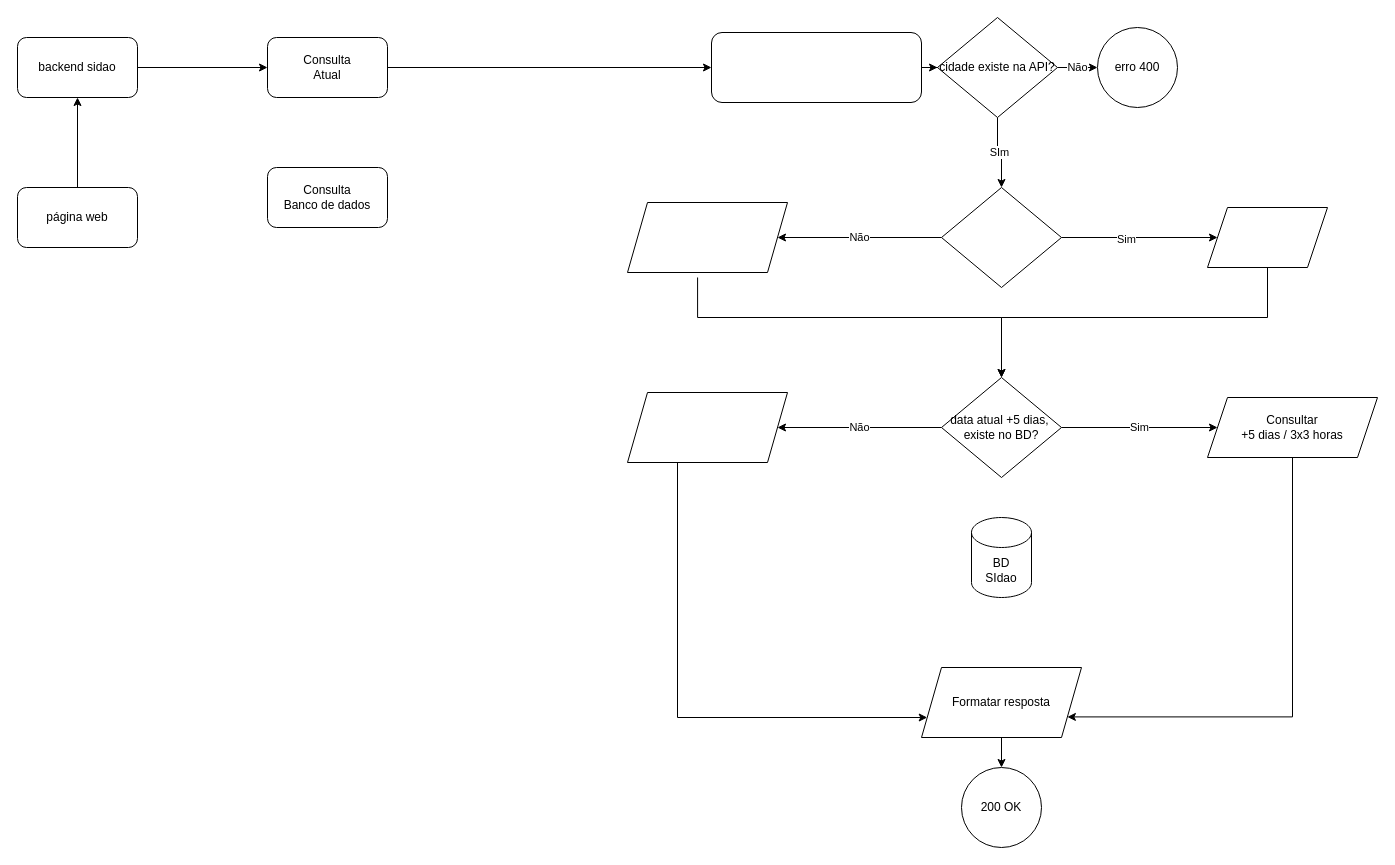
The diagram is 1395 pixels wide and 865 high, and some of its shapes have lost their labels. The shapes that lost their labels are listed below. From the top down, each one's centre as x and y in pixels, then its label:
point (816, 67): API https://openweathermap.org
point (707, 237): Salvar cidade
point (1001, 237): cidade existe no BD?
point (1267, 237): Consulta cidade
point (707, 427): Salvar +5 dias / 3x3 horas
